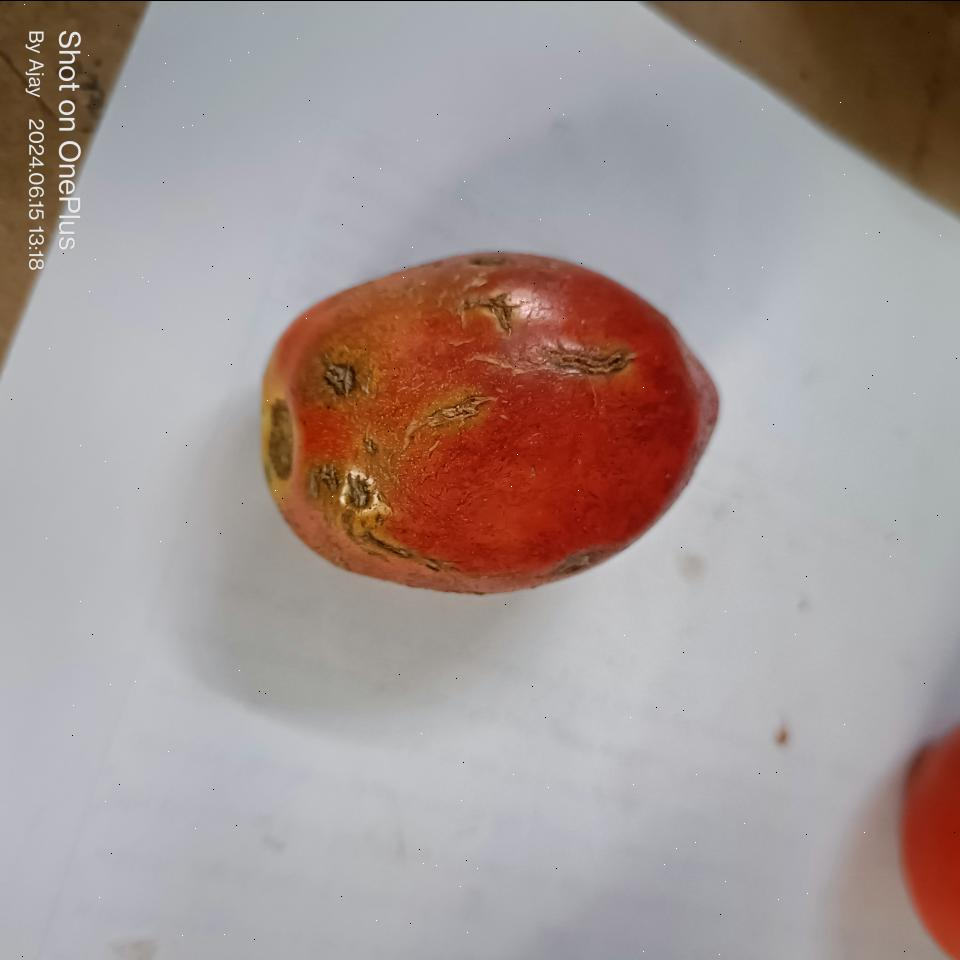Bacterial_Spot: (303, 464, 379, 516), (558, 345, 640, 381), (419, 384, 491, 422), (319, 358, 358, 400), (488, 287, 519, 329)
